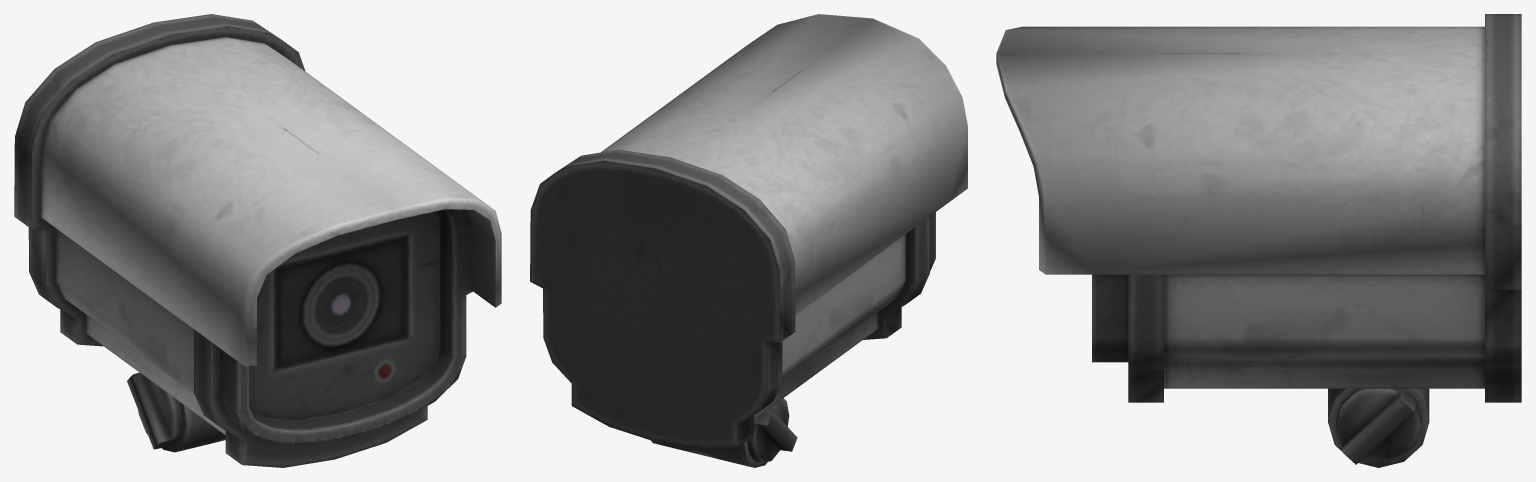
File: cctv_camera_camera.dae
The picture shows the model from 3 angles, left to right: view 1: azimuth 30°, elevation 25°; view 2: azimuth 150°, elevation 25°; view 3: azimuth 270°, elevation 25°; orthographic projection. The views are drawn at different scales.
Parts seen in each view (by area): view 1: camera; view 2: camera; view 3: camera.
Boxes of the visible parts, <box> form: camera: <box>14,14,501,467</box>; camera: <box>530,14,967,467</box>; camera: <box>996,14,1521,467</box>.
Size of the model in its own units: 0.3043 by 0.3811 by 0.4583.
